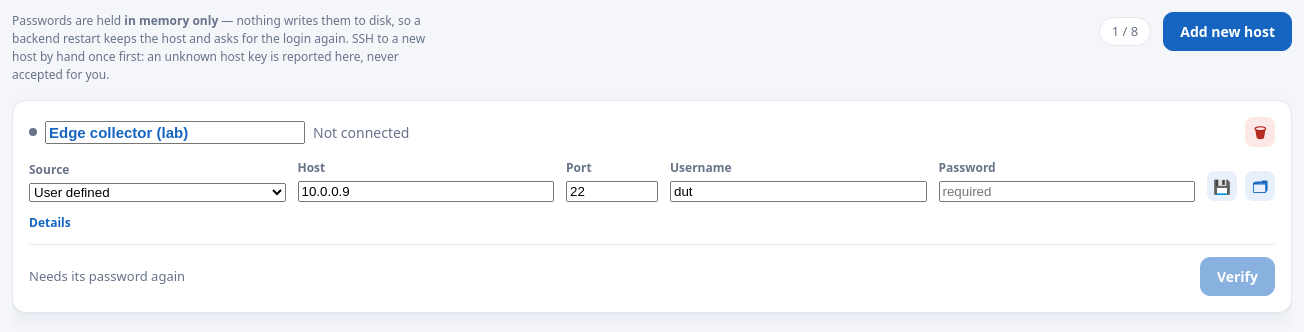
it: a saved profile › fills the fields it holds, and leaves the password alone
Type "typed-by-hand" into the password field named "SSH password for edge1" at (1067, 192), box [938,181,1195,202]
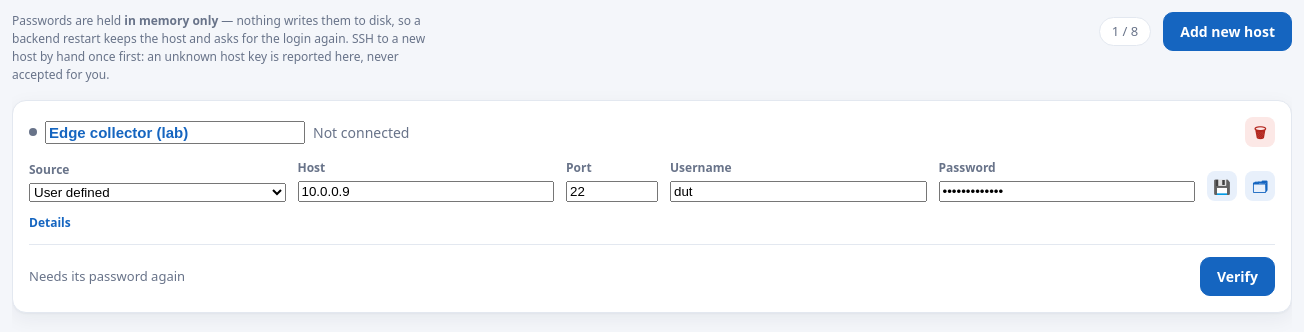
Select "bench-pi" in the dropdown named "Source for edge1" at (157, 192), box [29,183,286,202]
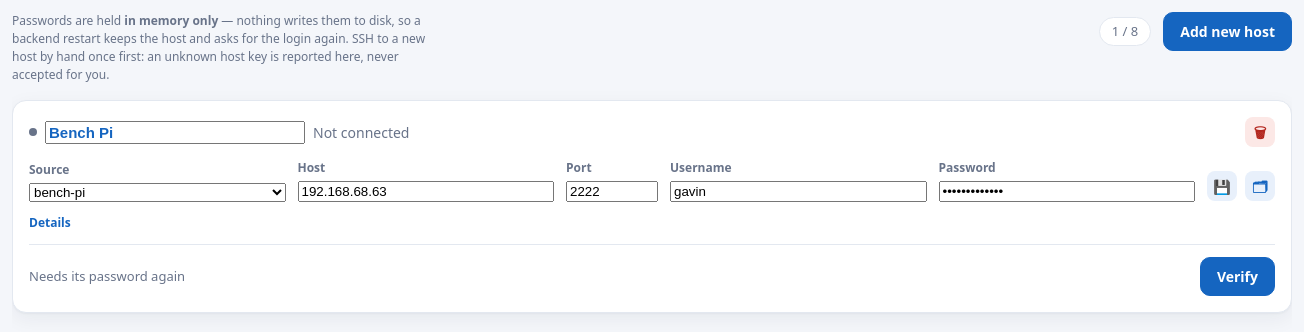
expect the field named "Address for edge1" holds "192.168.68.63": met, box [298,181,554,202]
expect the number field named "SSH port for edge1" holds "2222": met, box [566,181,658,202]
expect the field named "SSH user for edge1" holds "gavin": met, box [670,181,926,202]
